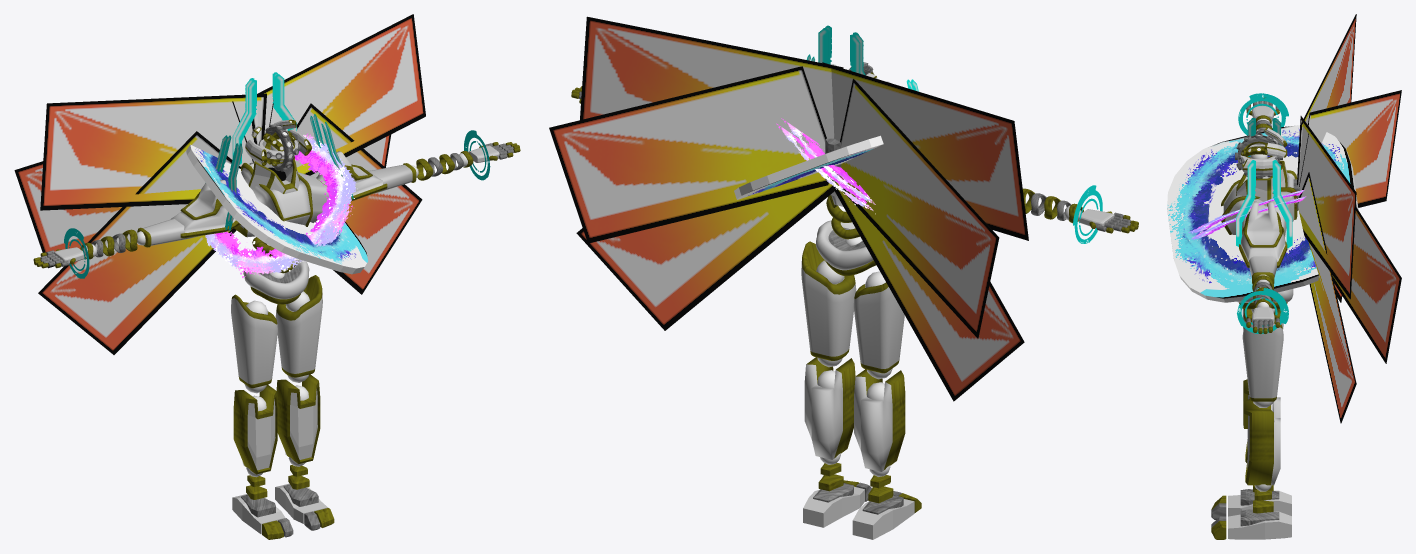
Rendered from Robot 9.fbx.
3 views of the same model, side by side, from view 1: azimuth 30°, elevation 25°; view 2: azimuth 150°, elevation 25°; view 3: azimuth 270°, elevation 25° (orthographic). The views are drawn at different scales.
Parts seen in each view (by area): view 1: Plane.010, Plane.012, Plane.007, galaxy blue, Plane.009, galaxy purple, chest, Plane.011, Icosphere.001, Icosphere, Icosphere.011, Icosphere.012 (+9 smaller); view 2: Plane.008, Plane.011, Plane.009, Plane.007, Plane.010, Plane.012, Icosphere.001, Icosphere.011, Icosphere.012, Icosphere, galaxy blue, NurbsCircle.002 (+4 smaller); view 3: galaxy blue, Plane.011, Plane.007, Plane.008, Plane.009, Icosphere.012, Icosphere.014, Icosphere.001, Plane.010, chest, Cube.027, Plane.005 (+10 smaller).
Part boxes in pixels (box(x1,y1,x2,y2)): Plane.010: box(40, 93, 266, 210); Plane.012: box(38, 131, 240, 354); Plane.007: box(251, 14, 425, 175); galaxy blue: box(186, 144, 367, 274); Plane.009: box(295, 103, 422, 294); galaxy purple: box(205, 133, 359, 277); chest: box(234, 159, 328, 237); Plane.011: box(14, 101, 253, 268); Icosphere.001: box(275, 275, 322, 382); Icosphere: box(231, 294, 277, 393); Icosphere.011: box(233, 384, 277, 477); Icosphere.012: box(276, 374, 320, 466); Plane.008: box(549, 66, 828, 243); Plane.011: box(840, 79, 999, 338); Plane.009: box(576, 183, 834, 330); Plane.007: box(580, 16, 843, 138); Plane.010: box(822, 62, 1028, 240); Plane.012: box(834, 182, 1024, 401); Icosphere.001: box(801, 241, 856, 367); Icosphere.011: box(854, 369, 905, 476); Icosphere.012: box(804, 357, 855, 464); Icosphere: box(853, 271, 904, 379); galaxy blue: box(734, 135, 883, 199); NurbsCircle.002: box(816, 220, 876, 276); galaxy blue: box(1167, 125, 1358, 302); Plane.011: box(1308, 90, 1401, 207); Plane.007: box(1297, 116, 1356, 299); Plane.008: box(1299, 133, 1401, 363); Plane.009: box(1298, 172, 1356, 423); Icosphere.012: box(1243, 399, 1280, 491); Icosphere.014: box(1239, 201, 1287, 287); Icosphere.001: box(1242, 320, 1283, 407); Plane.010: box(1297, 14, 1356, 185); chest: box(1221, 160, 1299, 238); Cube.027: box(1228, 509, 1291, 539); Plane.005: box(1236, 160, 1292, 248).
Bounding box in the file's own units: 2310 × 1987 × 977.
